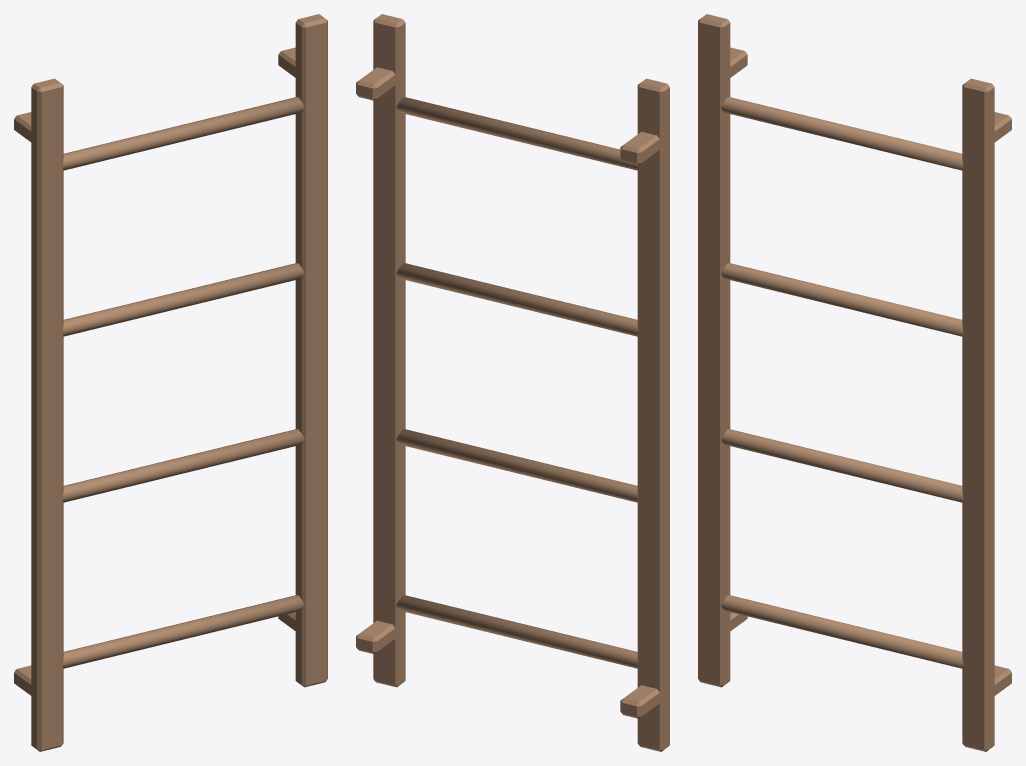
Rendered from wall_ladder.glb.
3 views of the same model, side by side, from view 1: azimuth 30°, elevation 25°; view 2: azimuth 150°, elevation 25°; view 3: azimuth 330°, elevation 25° (orthographic).
Parts seen in each view (by area): view 1: wall_ladder; view 2: wall_ladder; view 3: wall_ladder.
Part boxes in pixels (<box>): wall_ladder: <box>14,14,327,751</box>; wall_ladder: <box>356,14,669,751</box>; wall_ladder: <box>698,14,1011,751</box>.
Size of the model in its own units: 0.55 by 1.2 by 0.095.
